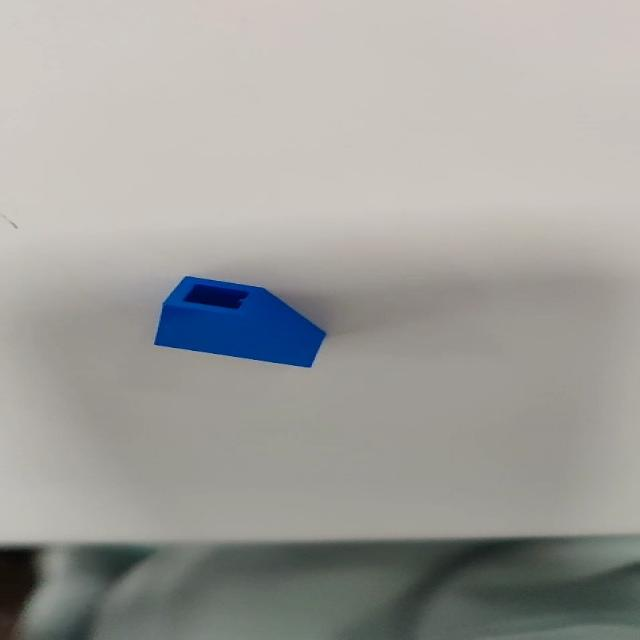X1x2x1: (152, 275, 333, 372)
